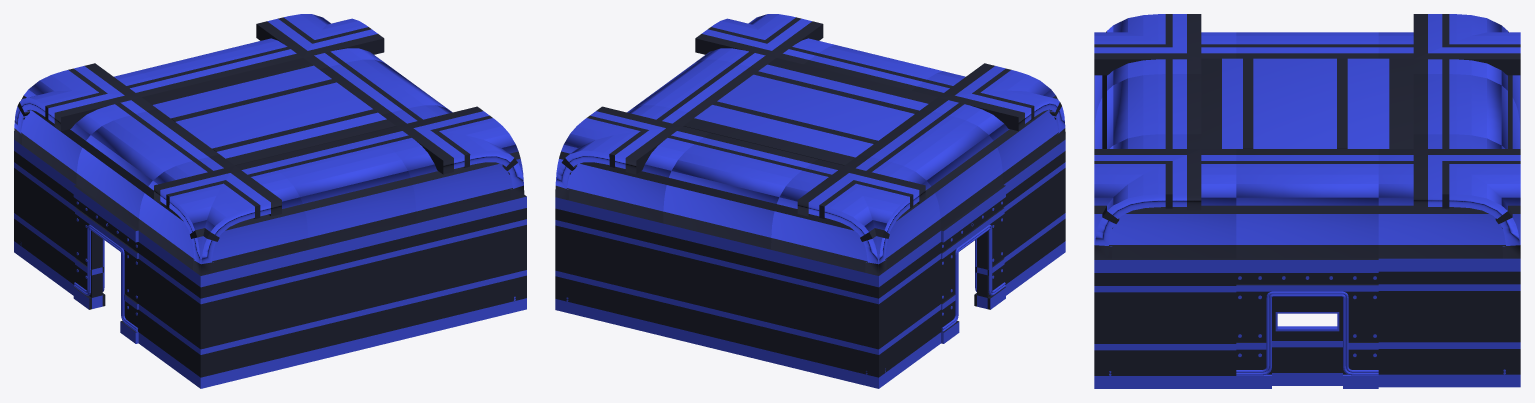
File: 3x3_Room.fbx
3 renders of one model, left to right at view 1: azimuth 30°, elevation 25°; view 2: azimuth 150°, elevation 25°; view 3: azimuth 270°, elevation 25°, orthographic. The views are drawn at different scales.
Parts seen in each view (by area): view 1: 3x3_Room; view 2: 3x3_Room; view 3: 3x3_Room.
Boxes of the visible parts, left/top/right/bottom form: 3x3_Room: left=14, top=14, right=526, bottom=388; 3x3_Room: left=555, top=14, right=1065, bottom=388; 3x3_Room: left=1094, top=14, right=1520, bottom=388.
Bounding box in the file's own units: 610 × 301 × 600.
